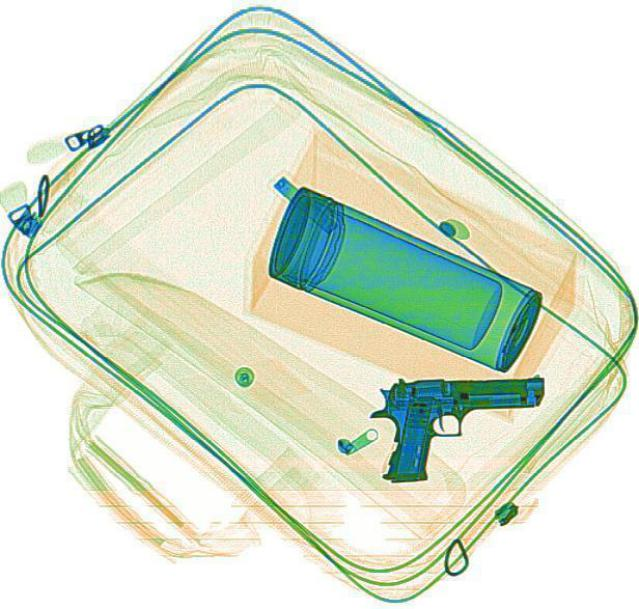Gun: (367, 373, 546, 481)
